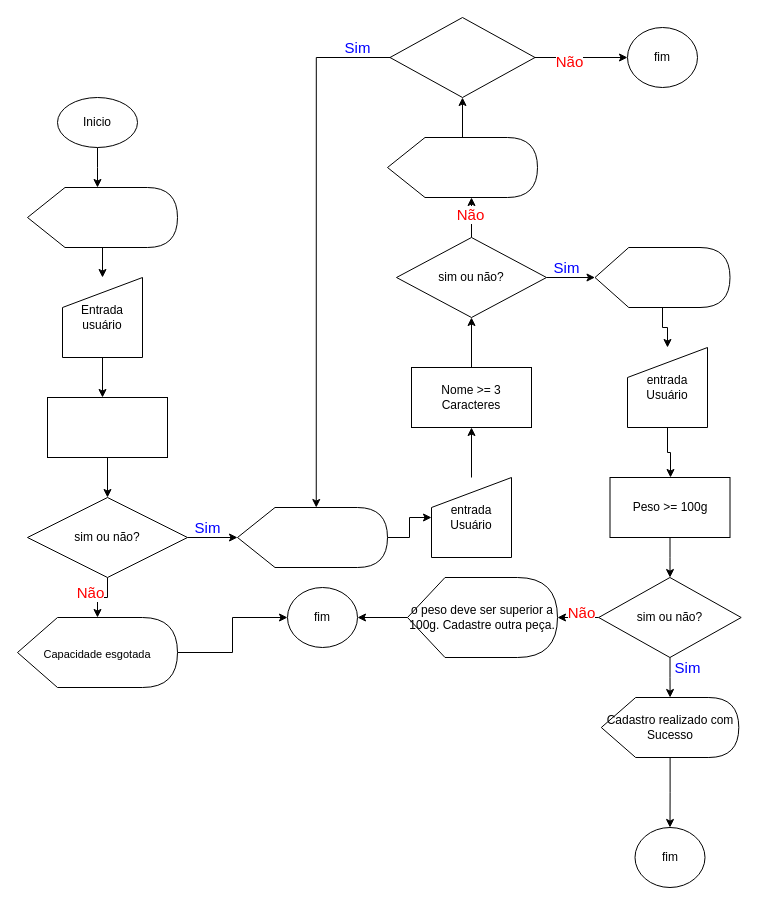
The diagram is 759 pixels wide and 905 high, and some of its shapes have lost their labels. Here are the shapes that lost their labels. From the top down, the centre of each, then its label:
At point (462, 57): "sim ou não".
At point (462, 167): "O nome deve ser >= 3 Caracteres, Deseja recadastrar o nome?".
At point (102, 217): "quantidade de peças por caixa".
At point (662, 277): "qual o peso da peça?".
At point (107, 427): "quantidade <= 10".
At point (312, 537): "nome da peça".
